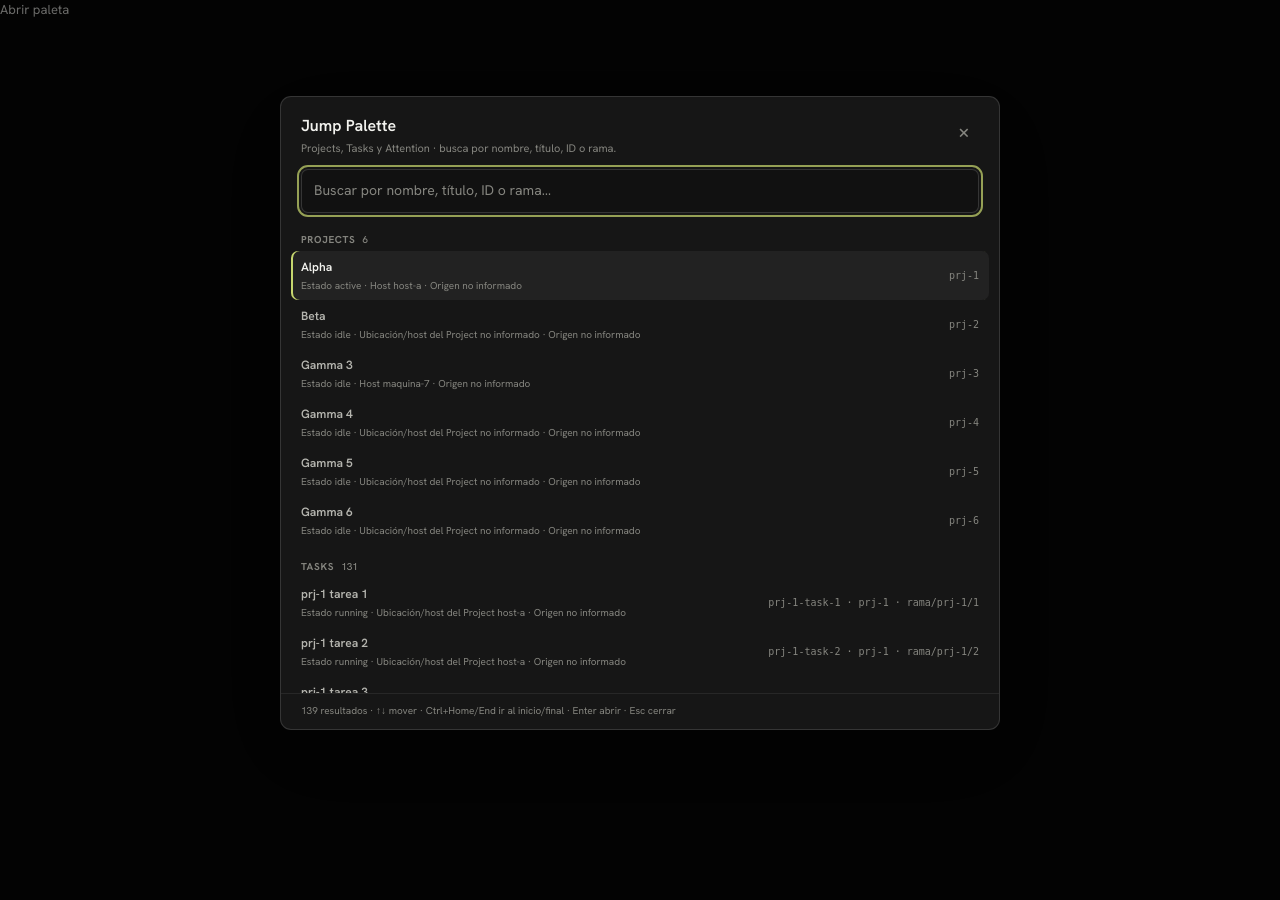
Test case: JumpPaletteHost · navegación y foco › mantiene abierta la paleta y anuncia el aviso cuando la navegación declara un destino no soportado
This screenshot has width=1280, height=900.
Expected: the option "Alpha" is shown, [291,250,989,300]
Type "prj-5-task-1" into the dropdown named "Buscar Projects, Tasks y Attention" at coordinates (640, 190), box [301,168,979,212]
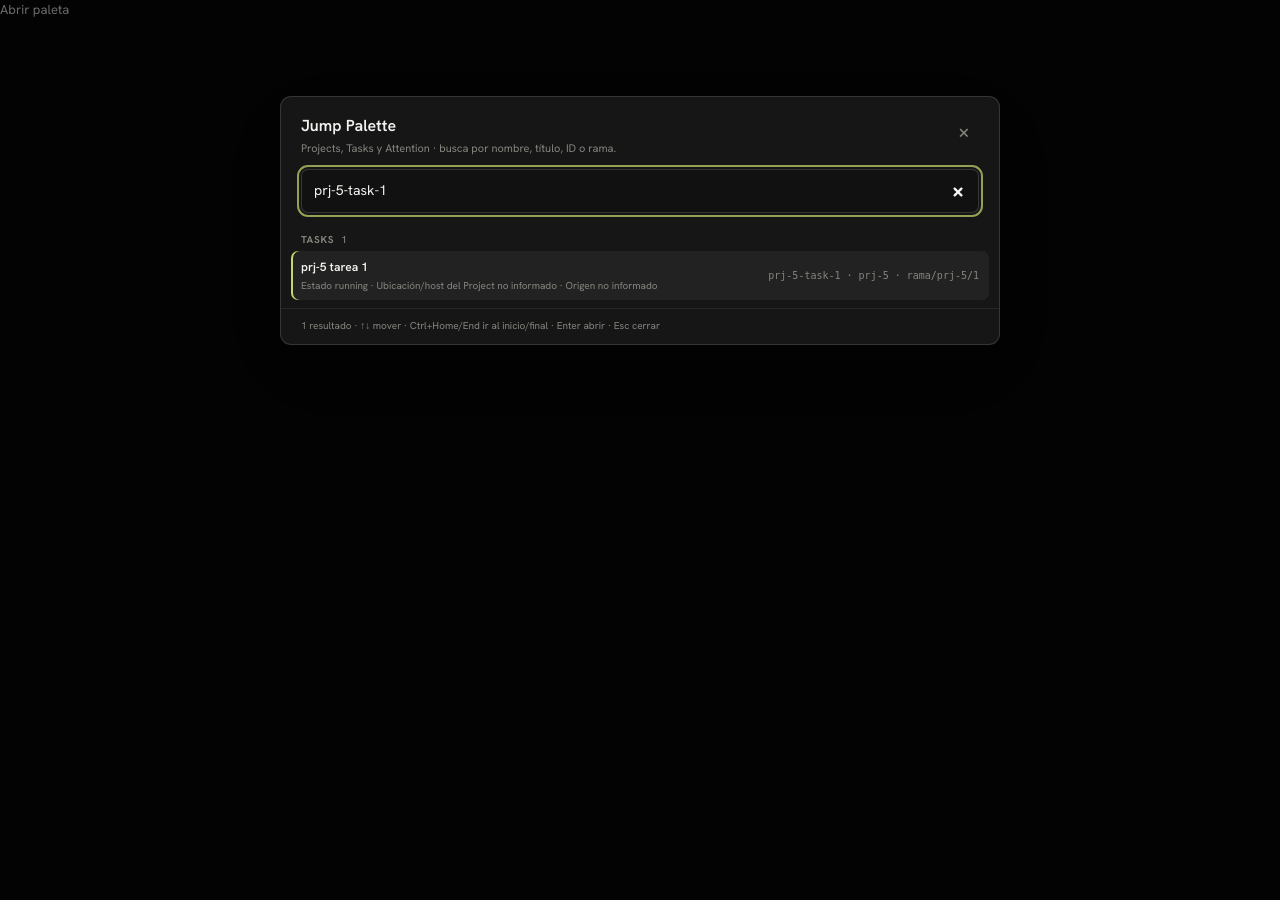
Result: the option is shown at [291,250,989,300]
Press Enter in the dropdown named "Buscar Projects, Tasks y Attention", box [301,168,979,212]
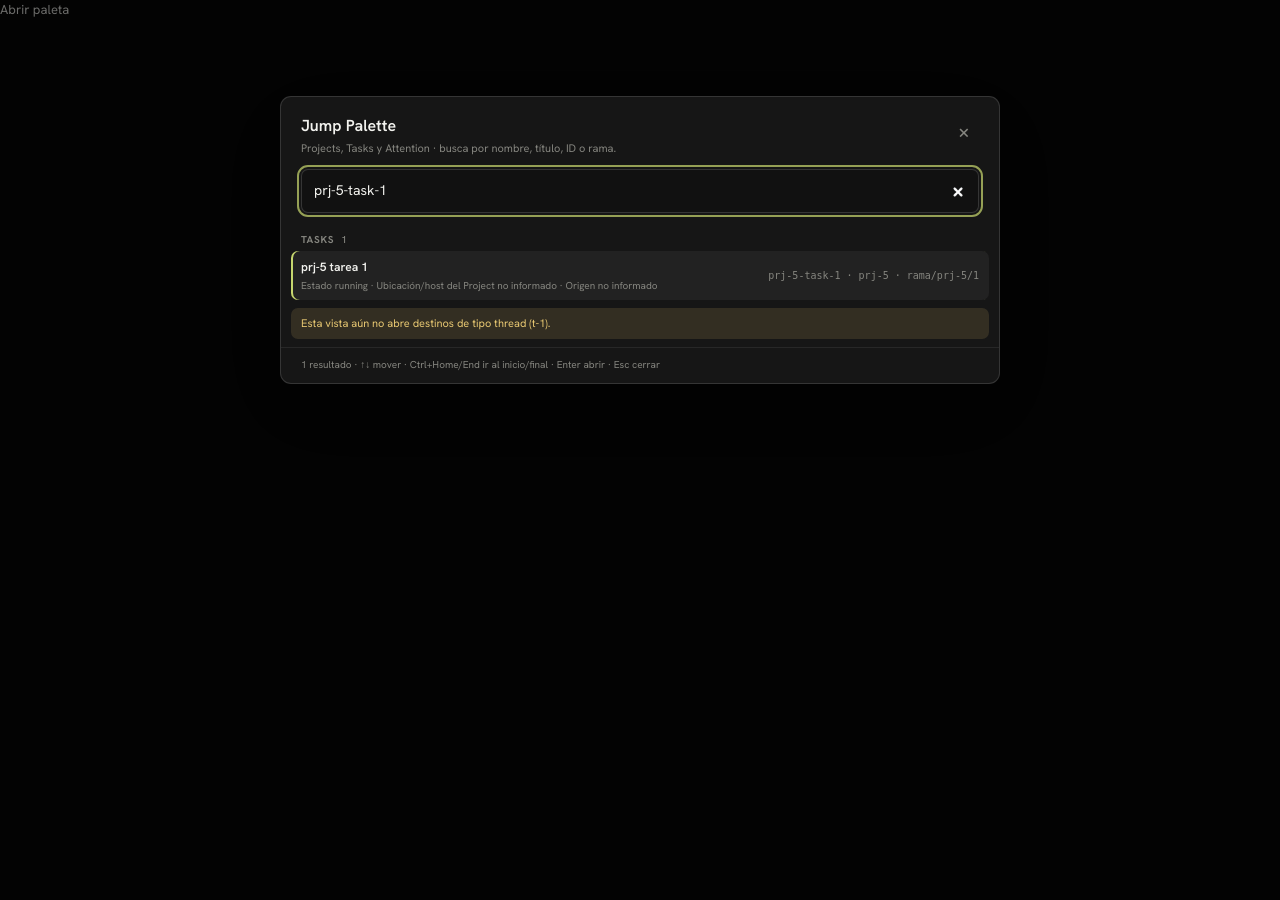
Expected: the dialog is shown, [280,96,1000,384]
Result: the message "Esta vista aún no abre destinos de tipo thread (t-1)." is shown at [291,308,989,339]
Replace the text in the dropdown named "Buscar Projects, Tasks y Attention" with "prj" at coordinates (640, 190), box [301,168,979,212]
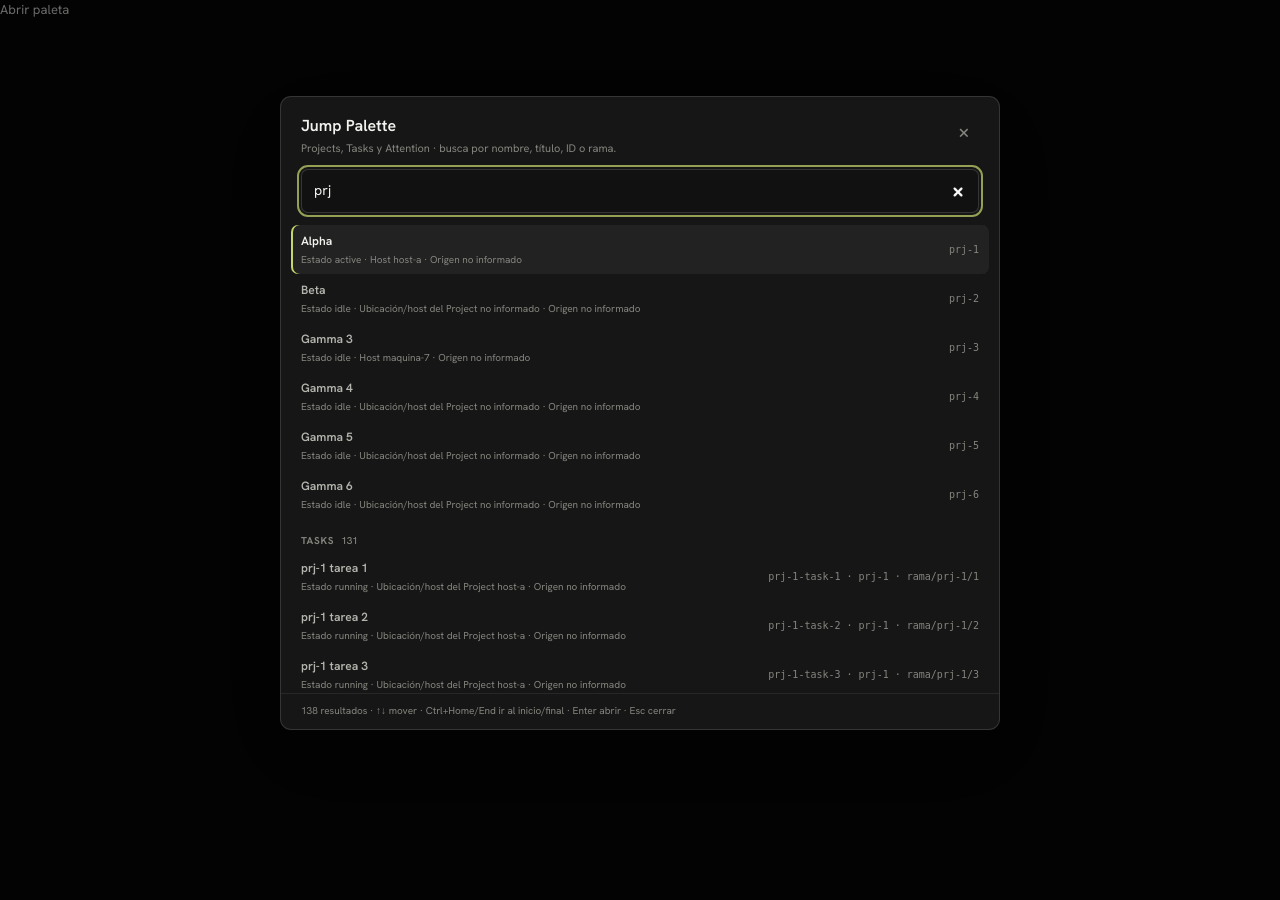
Result: the message "Esta vista aún no abre destinos de tipo thread (t-1)." is gone
